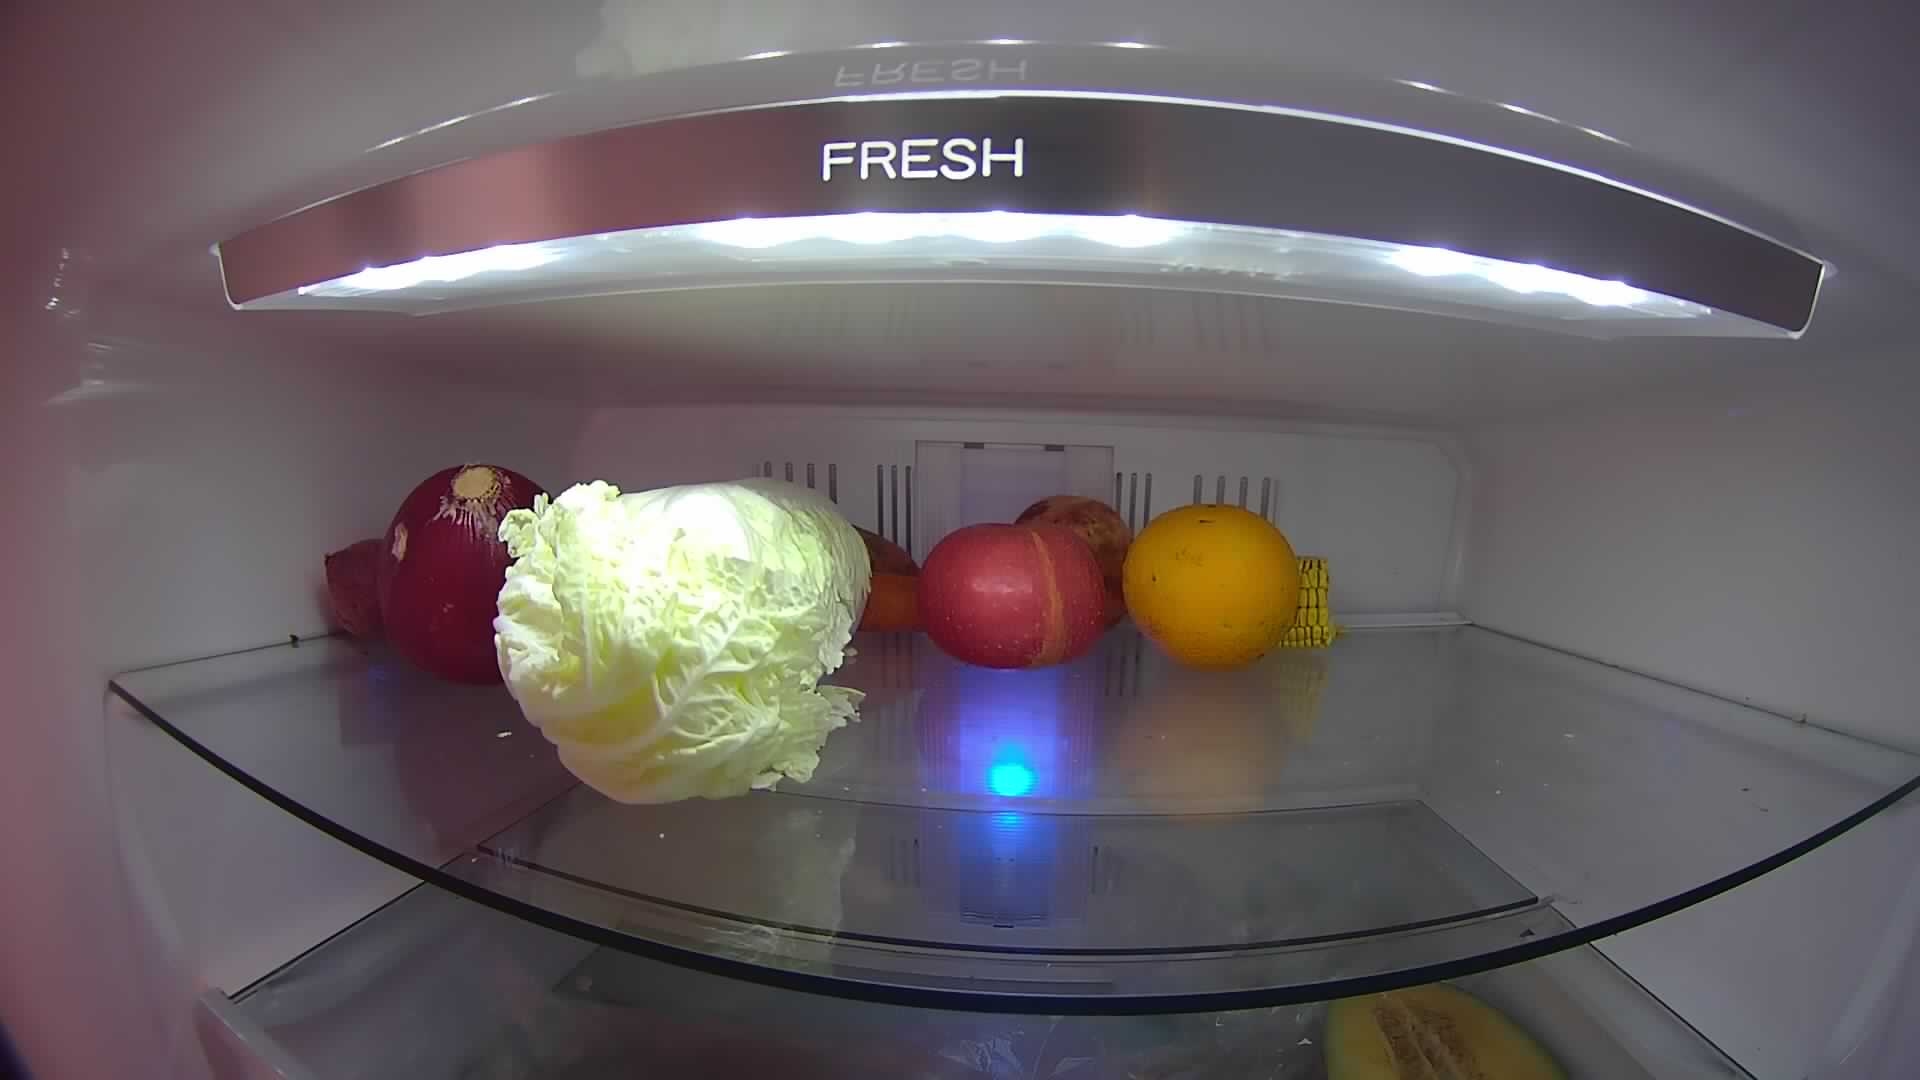apple: (890, 496, 1120, 674)
chinese-cabbage: (483, 463, 897, 804)
corn: (1284, 541, 1337, 646)
onion: (372, 459, 531, 682)
orange: (1120, 501, 1291, 665)
